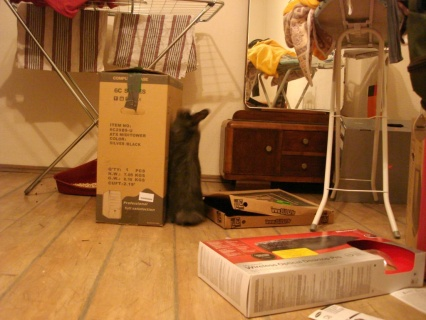Cat: (167, 108, 209, 224)
